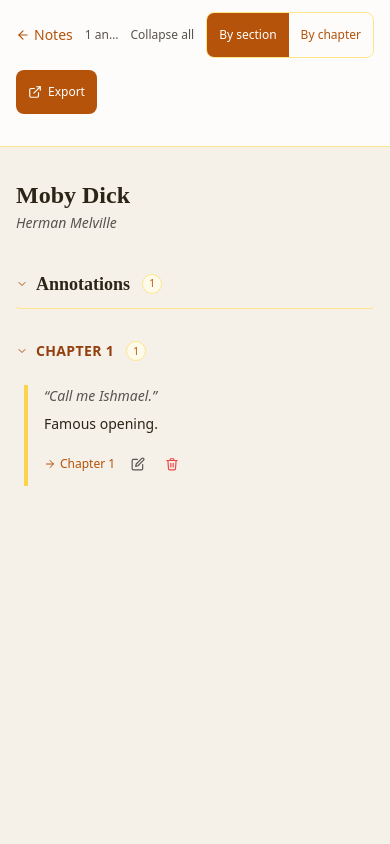
it: deleting annotation removes it from the list optimistically
Expected: the text "“Call me Ishmael.”" is shown, [44,386,157,405]
Click the button titled "Delete annotation" at point(172, 464), box [161,442,183,486]
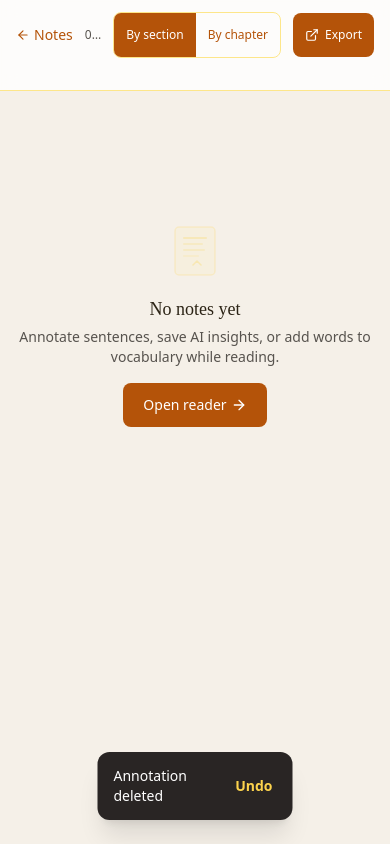
Expected: the text "Call me Ishmael" is gone
